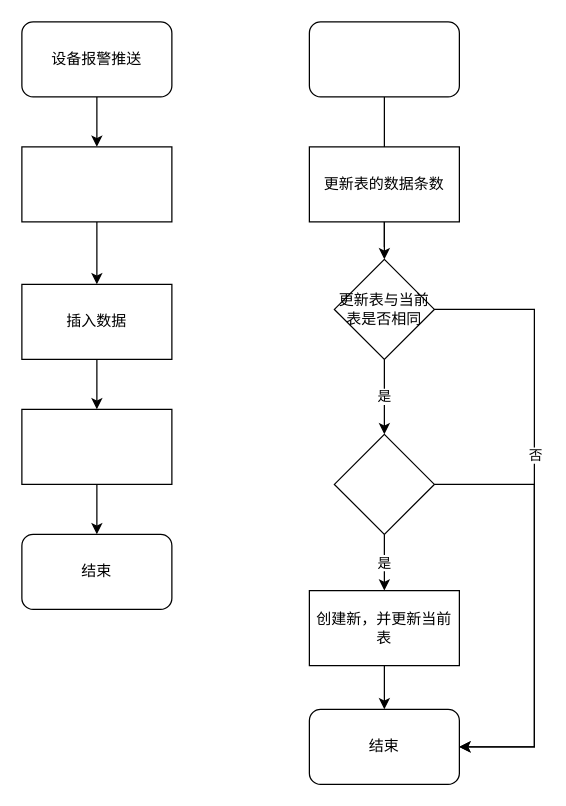
This 566x806 diagram has some shape labels left out. Here are the shapes that lost their labels. From the top down, the box of each, then its label:
(308, 21, 459, 97): 数据量更新
(21, 146, 172, 222): 获取当前表名
(21, 408, 172, 484): 通知数据量更新
(333, 433, 434, 534): 是否需要创建新表
